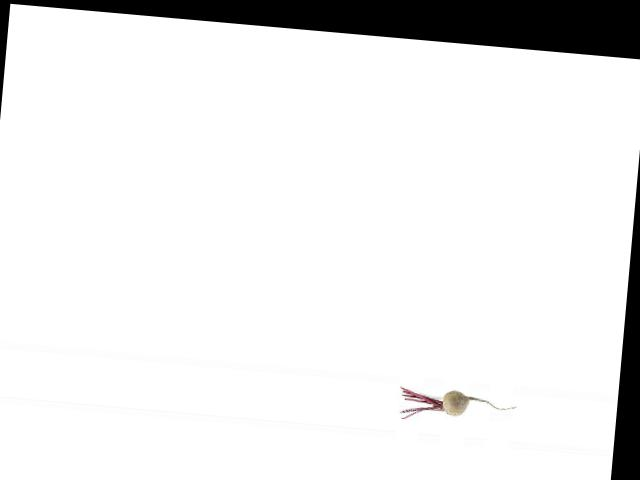beet: (398, 385, 518, 428)
